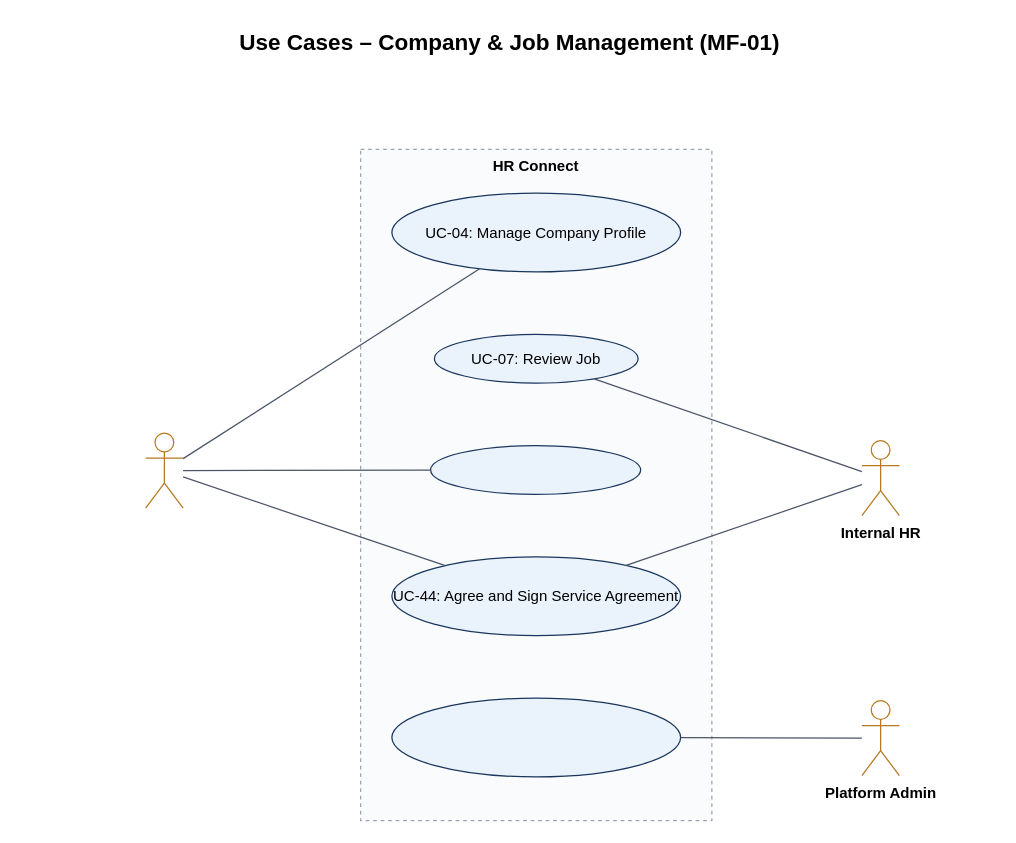
This 1016x843 diagram has some shape labels left out. Each missing label, with the centre of its shape:
"Client Company User" goes at point (163, 470).
"UC-05: Review Company Verification" goes at point (536, 737).
"UC-06: Manage Job" goes at point (535, 469).
